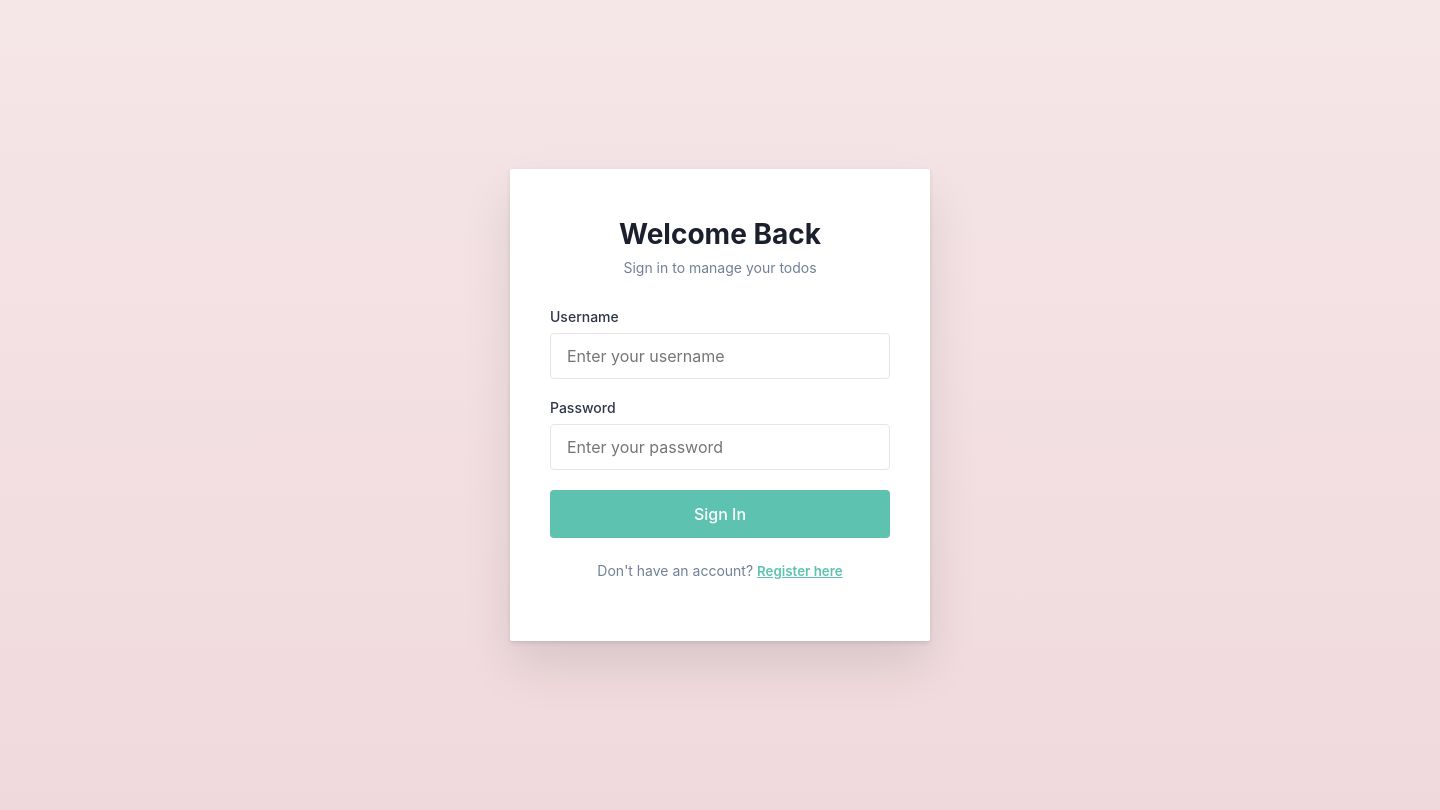
Test: Login Component › displays error message on invalid credentials
Type "wronguser" into the field with placeholder "Enter your username" at x=720, y=356, box [550,333,890,379]
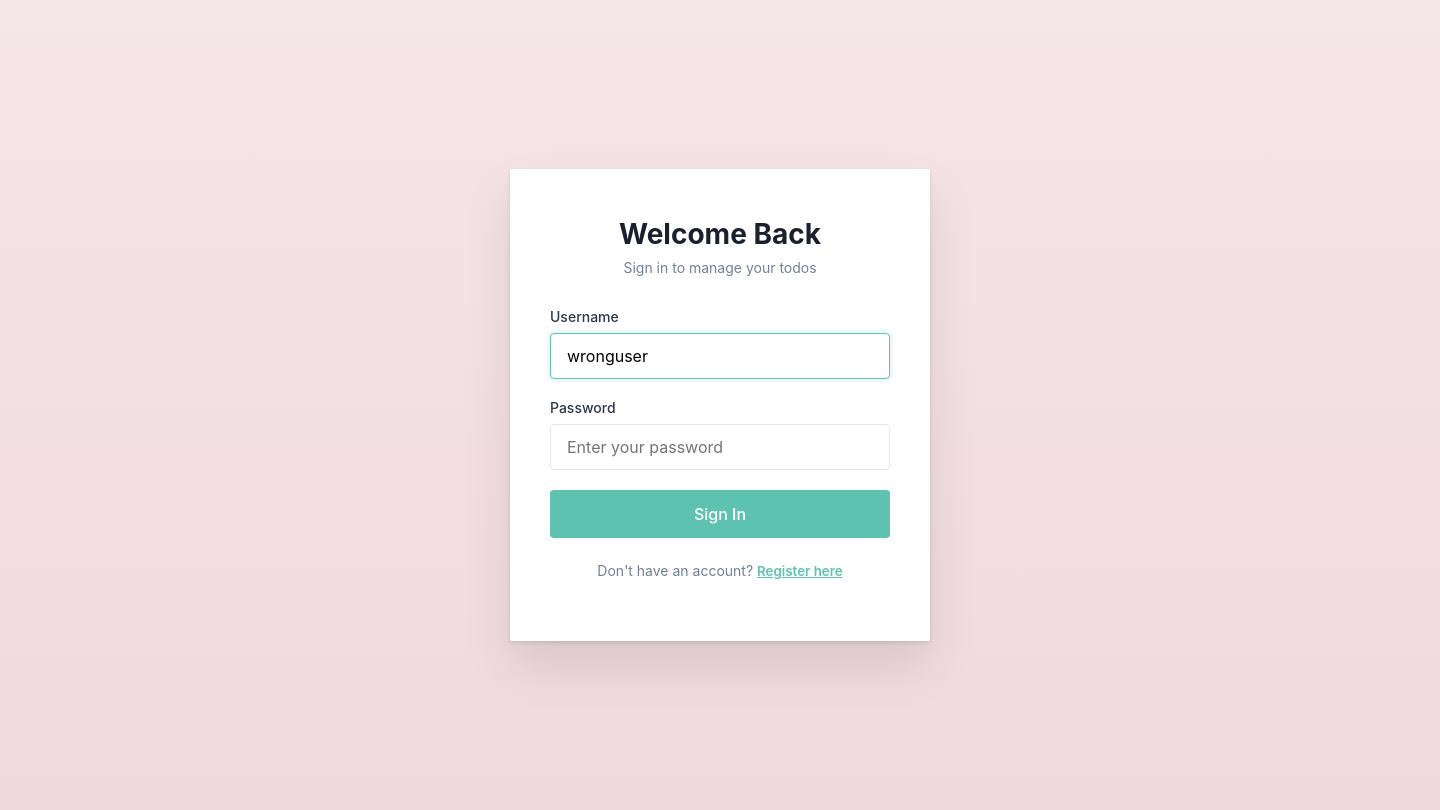
Type "wrongpass" into the password field with placeholder "Enter your password" at x=720, y=447, box [550,424,890,470]
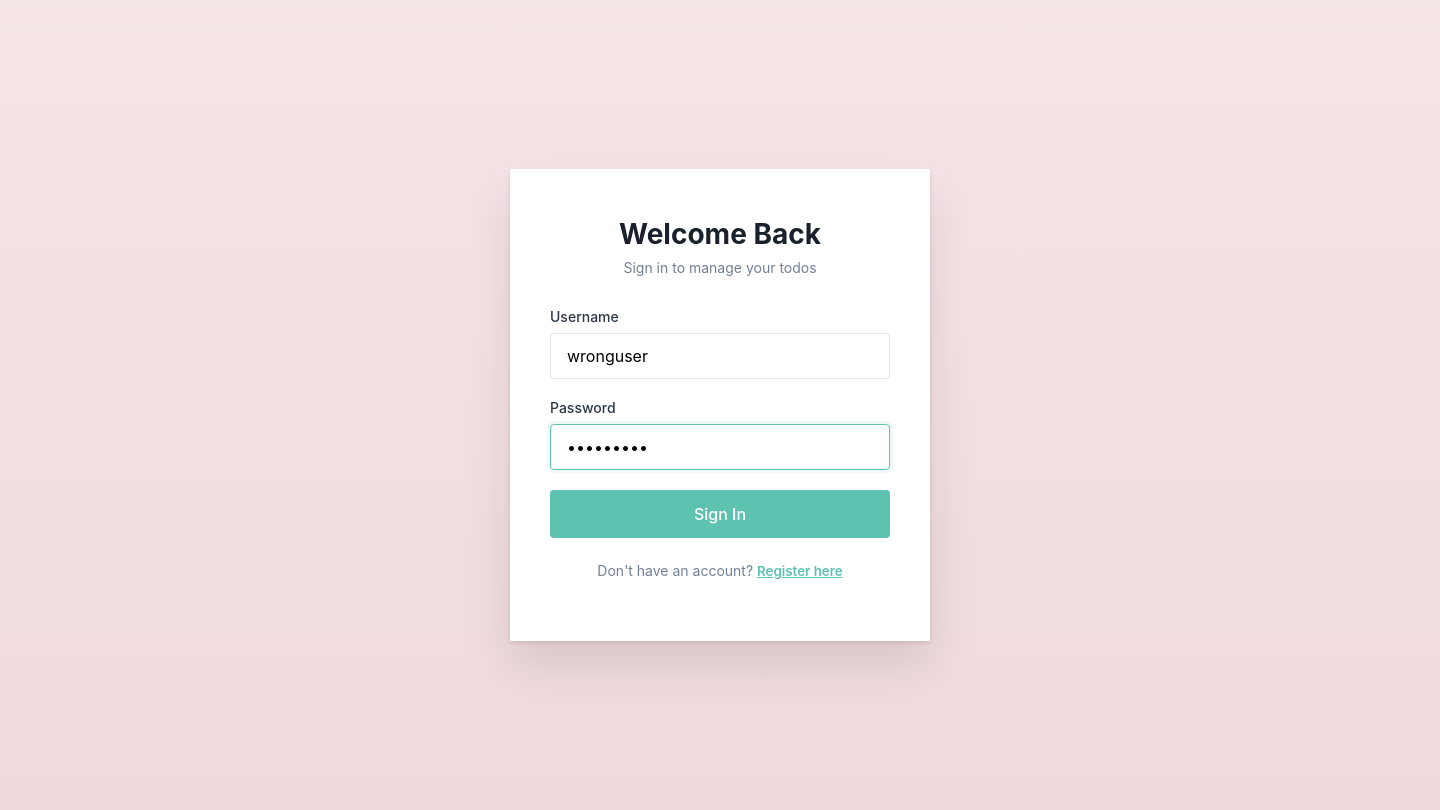
Click the button "Sign In" at x=720, y=514, box [550,490,890,538]
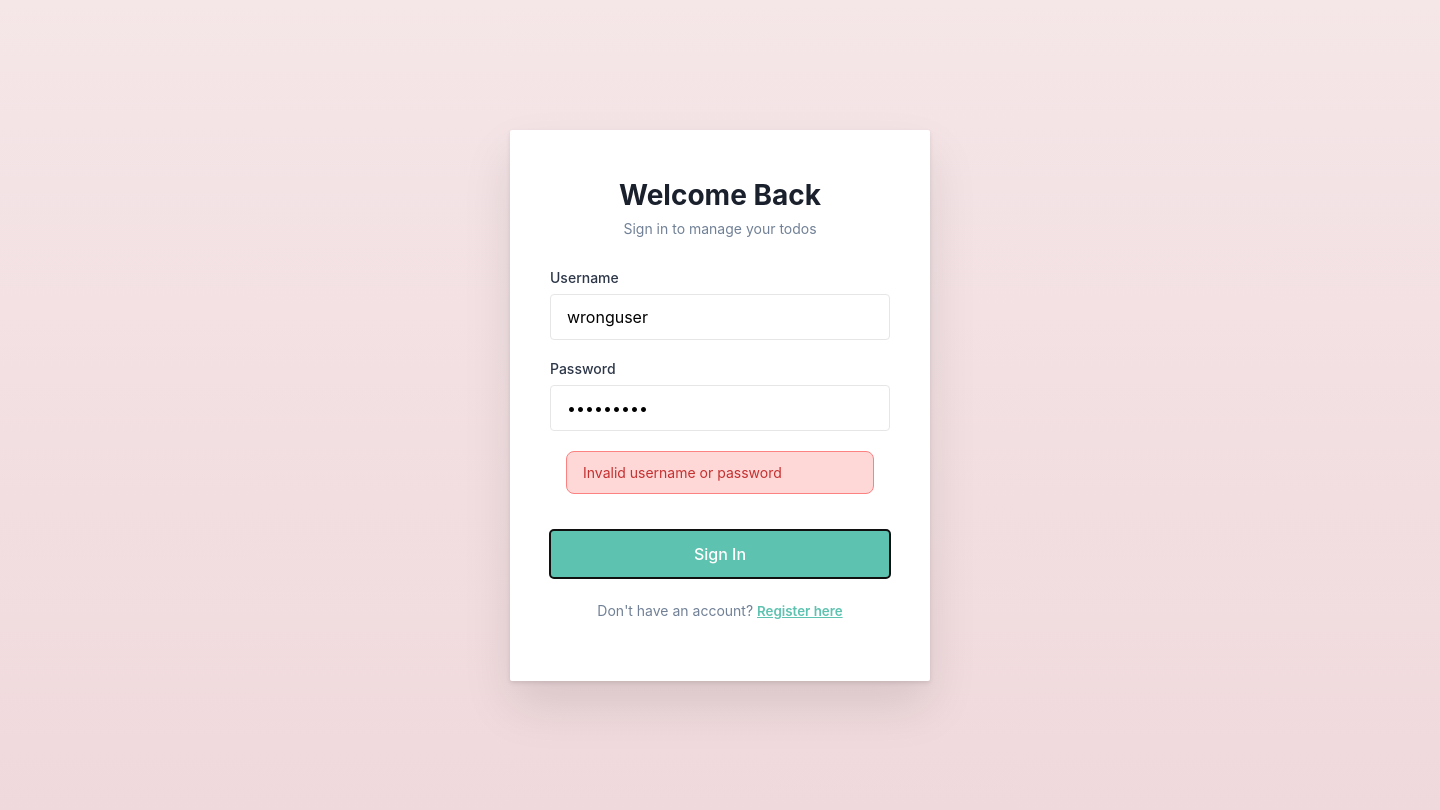
Expected: the text "Invalid username or password" is shown, [566,450,874,494]
